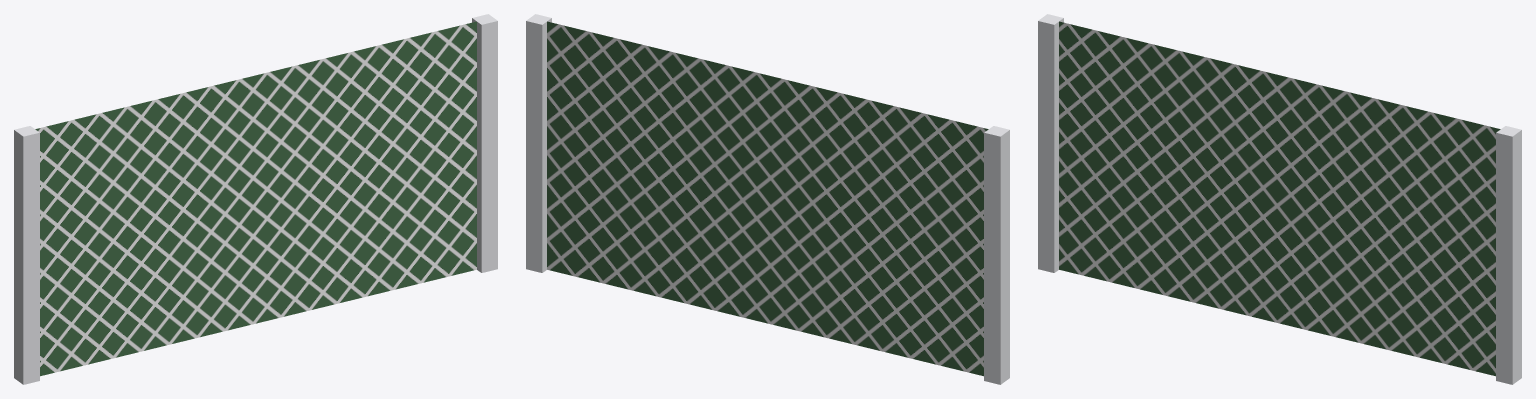
The model's file is kit_fenceStraight.obj.
3 views of the same model, side by side, from view 1: azimuth 30°, elevation 25°; view 2: azimuth 150°, elevation 25°; view 3: azimuth 330°, elevation 25° (orthographic).
Visible parts, largest first — view 1: fenceStraight; view 2: fenceStraight; view 3: fenceStraight.
Boxes of the visible parts, <box> form: fenceStraight: <box>14,14,497,384</box>; fenceStraight: <box>526,14,1009,384</box>; fenceStraight: <box>1038,14,1521,384</box>.
Size of the model in its own units: 1 by 0.5 by 0.0345.
